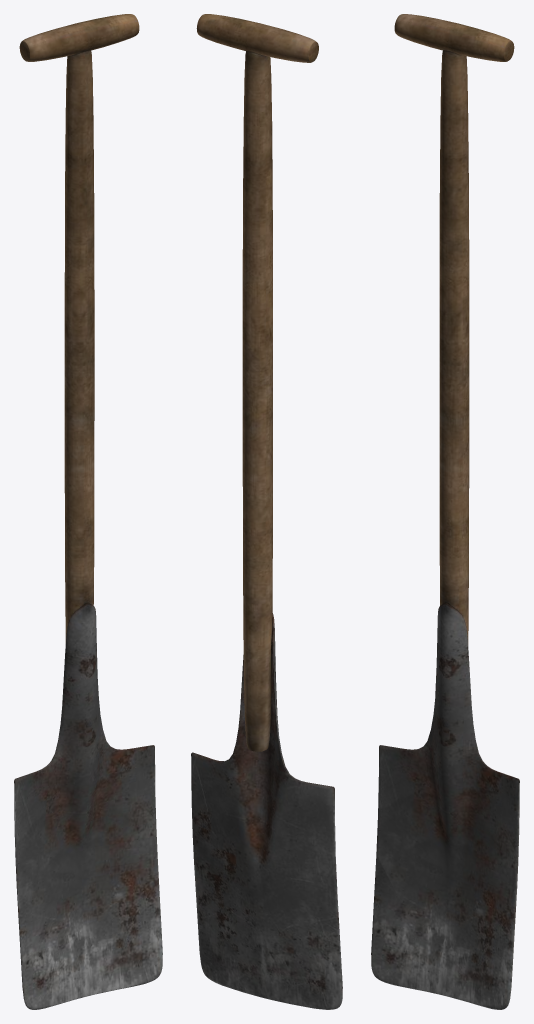
Rendered from rusted_spade_01.glb.
The picture shows the model from 3 angles, left to right: view 1: azimuth 30°, elevation 25°; view 2: azimuth 150°, elevation 25°; view 3: azimuth 330°, elevation 25°; orthographic projection. The views are drawn at different scales.
Parts seen in each view (by area): view 1: rusted_spade_01; view 2: rusted_spade_01; view 3: rusted_spade_01.
Part boxes in pixels (box(x1,y1,x2,y2)): rusted_spade_01: box(14, 14, 162, 1009); rusted_spade_01: box(191, 14, 342, 1009); rusted_spade_01: box(371, 14, 519, 1009).
Bounding box in the file's own units: 0.1681 × 1.1 × 0.0455.
1 material, 1 textured.
